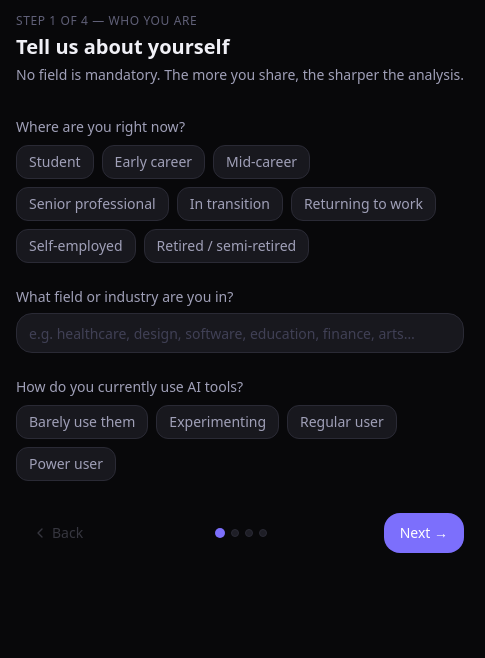
Scenario: QuestionnaireScreen › step 2 renders energised-by tags
What coordinates should you click on to do the following:
click the button "Next →"
I would click on:
 (424, 533)
Its box is [384,513,464,553].
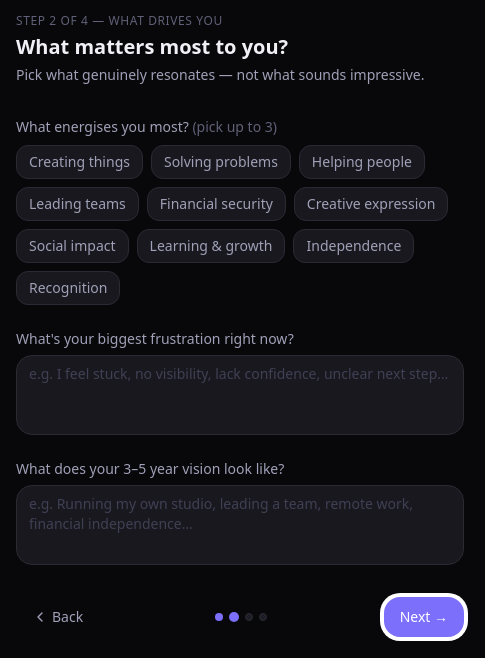
expect the button "Creating things" is shown: met, box [16,145,143,179]
